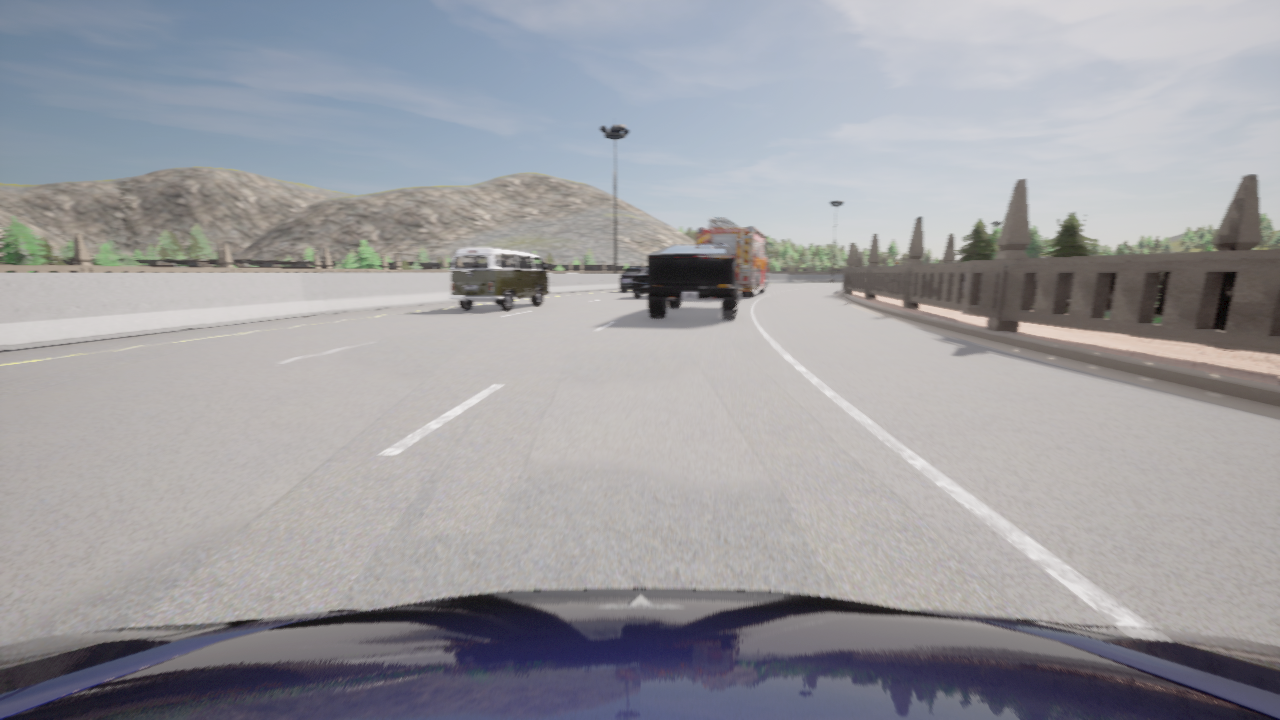cyclist: (0, 588, 1279, 719), (648, 244, 738, 318), (696, 217, 773, 297), (449, 247, 548, 309), (620, 267, 647, 291), (632, 269, 648, 297)
pedestrian: (894, 261, 899, 265), (877, 262, 880, 266)
